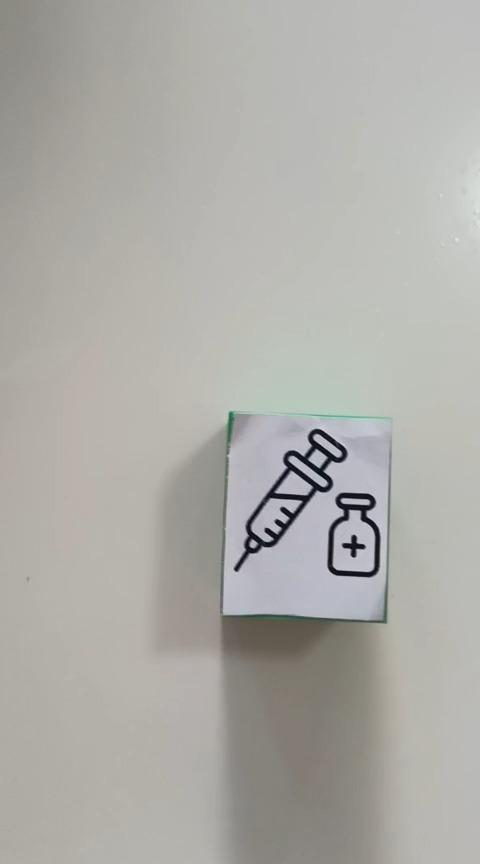antiseptic cream: (221, 409, 388, 626)
